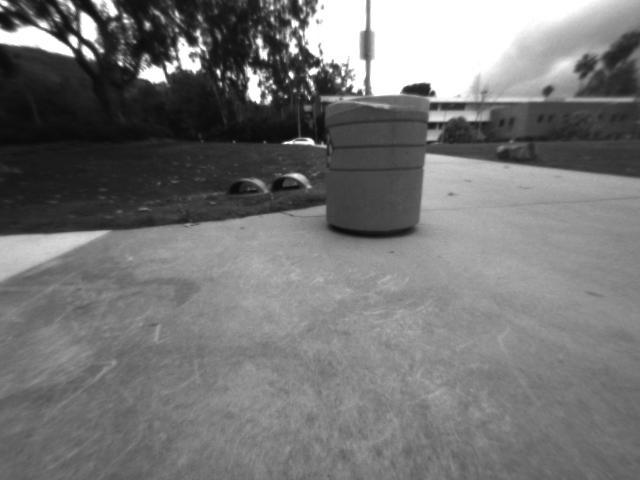trashcan: (317, 90, 436, 240)
